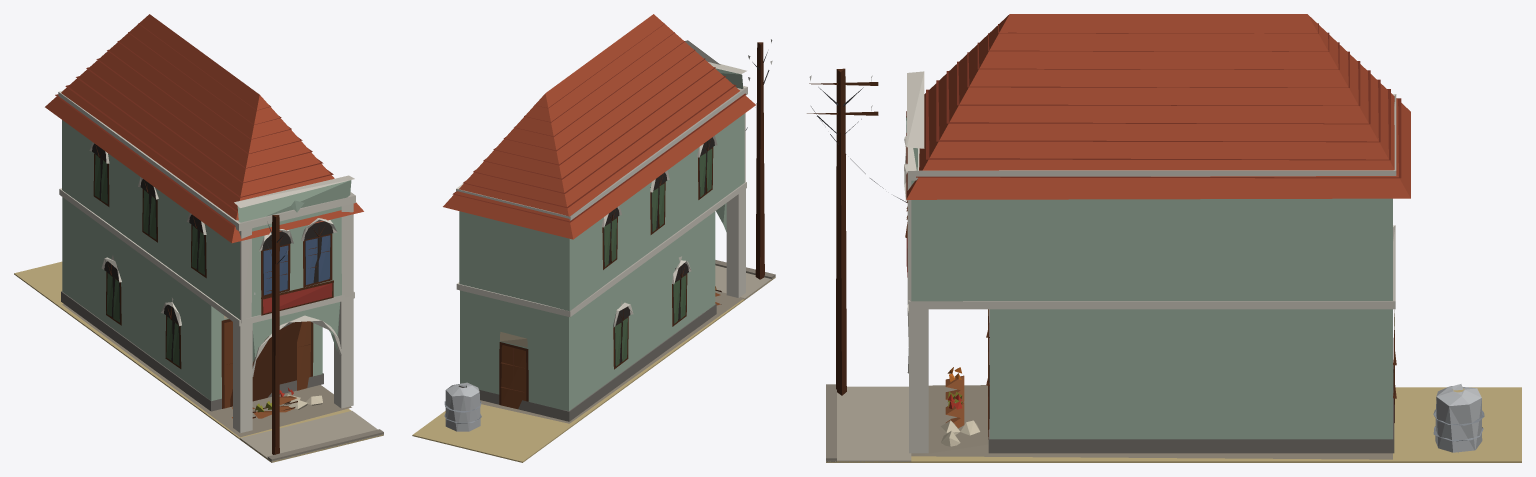
The model's file is bay1_left.glb.
3 views of the same model, side by side, from view 1: azimuth 30°, elevation 25°; view 2: azimuth 150°, elevation 25°; view 3: azimuth 270°, elevation 25° (orthographic). The views are drawn at different scales.
Parts seen in each view (by area): view 1: body, windows; view 2: body, windows; view 3: body.
Boxes of the visible parts, <box> form: body: <box>14,14,383,462</box>; windows: <box>92,143,333,365</box>; body: <box>412,14,775,462</box>; windows: <box>603,137,714,366</box>; body: <box>807,14,1521,462</box>.
Size of the model in its own units: 4.75 by 10.39 by 16.4.
